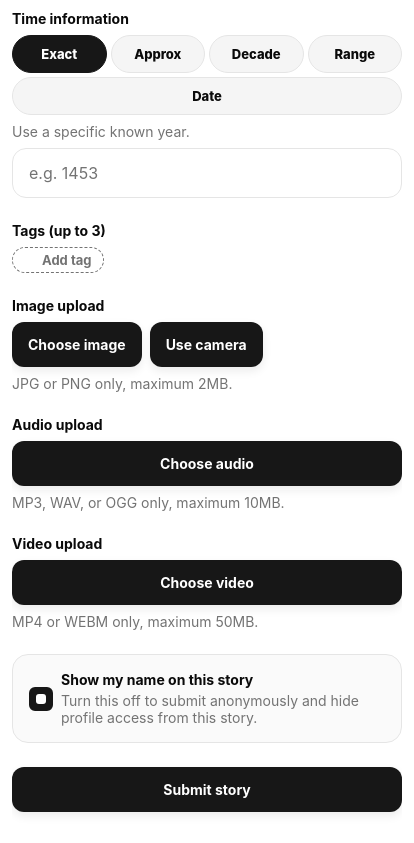
Test: SubmissionScreen › marks blank required inputs with red outer borders
(page scrolled)
Click the button "Submit story". click: (207, 790)
box: [12,767,402,812]
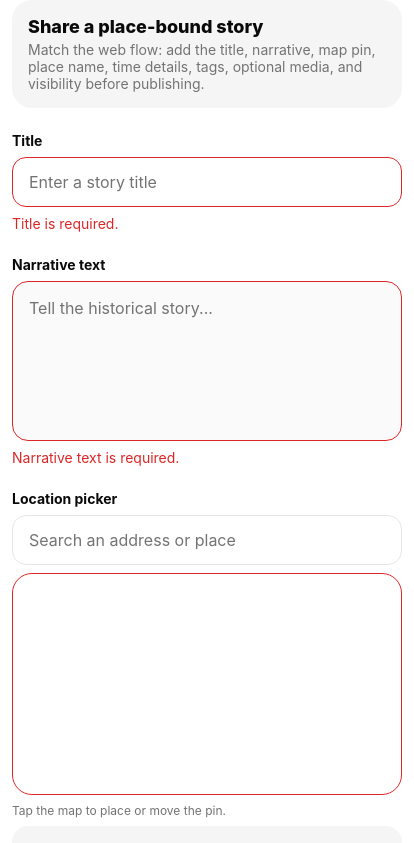
Expected: the text "Title is required." is shown, [12,215,118,232]
